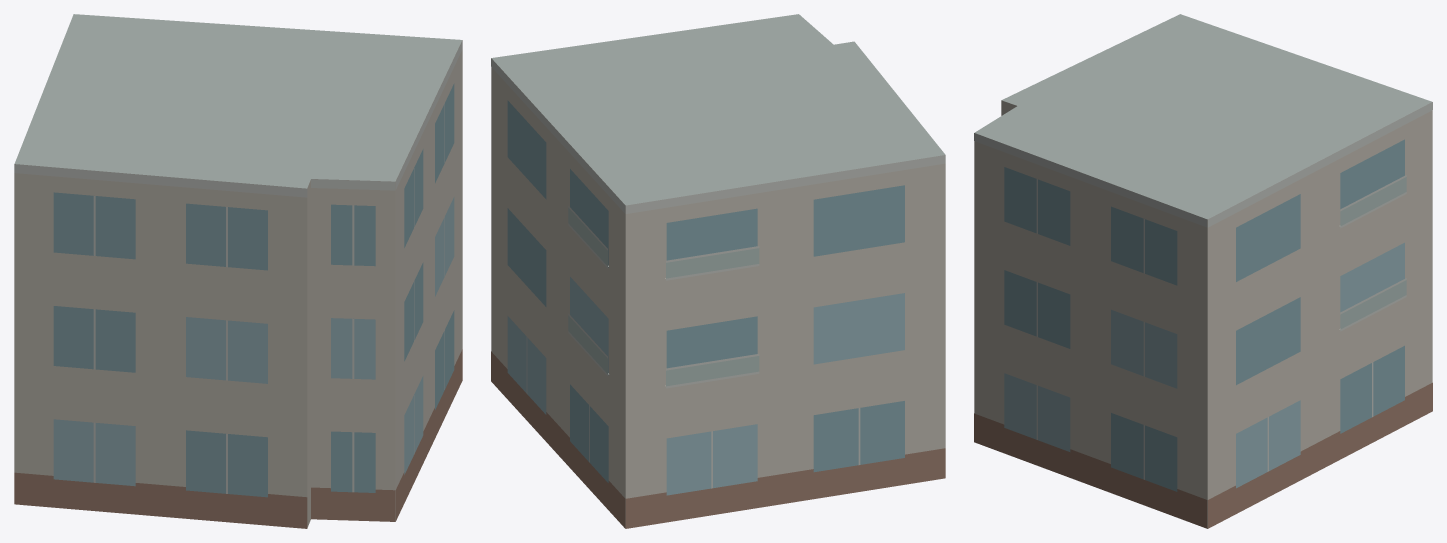
Rendered from survey-upis-33025985.glb.
3 renders of one model, left to right at view 1: azimuth 30°, elevation 25°; view 2: azimuth 150°, elevation 25°; view 3: azimuth 270°, elevation 25°, orthographic. The views are drawn at different scales.
Parts seen in each view (by area): view 1: survey-upis-33025985.tmp; view 2: survey-upis-33025985.tmp; view 3: survey-upis-33025985.tmp.
Boxes of the visible parts, box(x1,y1,x2,y2) form: survey-upis-33025985.tmp: box(14, 14, 462, 528); survey-upis-33025985.tmp: box(491, 14, 945, 528); survey-upis-33025985.tmp: box(974, 14, 1432, 528).
Size of the model in its own units: 13.04 by 9.15 by 12.3.
